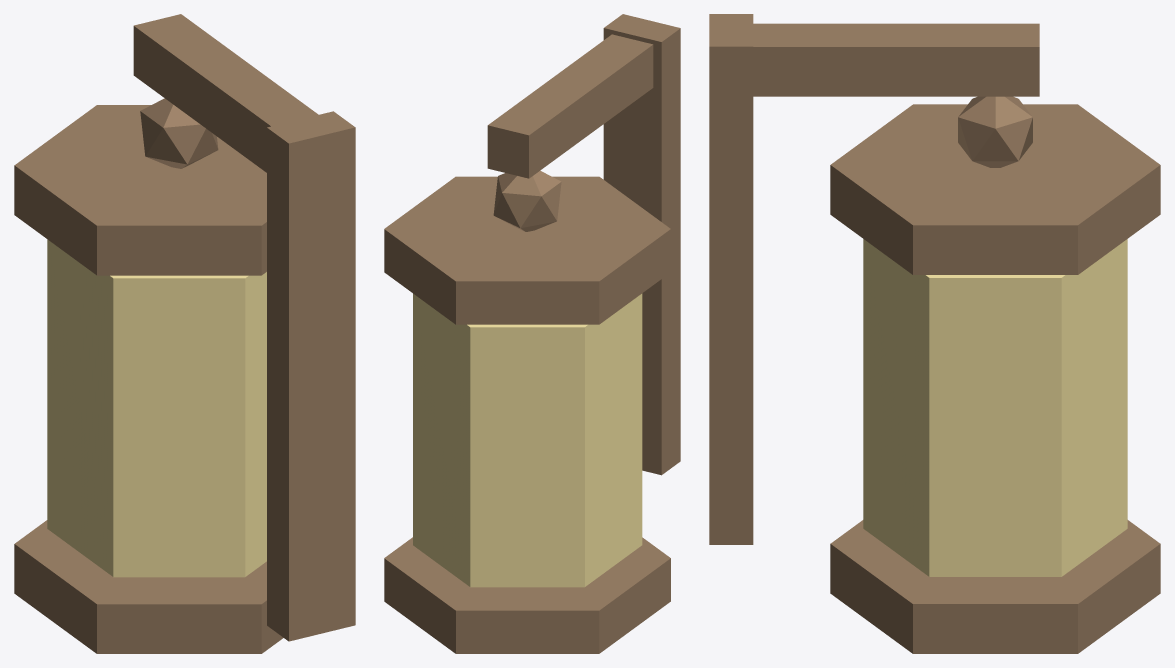
Rendered from Home_Lantern.fbx.
3 views of the same model, side by side, from view 1: azimuth 30°, elevation 25°; view 2: azimuth 150°, elevation 25°; view 3: azimuth 270°, elevation 25° (orthographic). The views are drawn at different scales.
Parts seen in each view (by area): view 1: Glass, WallPlate, TopCap, BottomCap, Arm, Knob; view 2: Glass, TopCap, BottomCap, WallPlate, Arm, Knob; view 3: Glass, TopCap, BottomCap, WallPlate, Arm, Knob.
Boxes of the visible parts, box(x1,y1,x2,y2) form: Glass: box(47, 239, 266, 577); WallPlate: box(267, 111, 355, 641); TopCap: box(14, 105, 266, 275); BottomCap: box(14, 520, 283, 653); Arm: box(133, 14, 318, 172); Knob: box(140, 98, 218, 168); Glass: box(413, 293, 642, 587); TopCap: box(384, 176, 670, 324); BottomCap: box(384, 537, 670, 653); WallPlate: box(603, 14, 680, 475); Arm: box(487, 34, 653, 178); Knob: box(493, 170, 561, 231); Glass: box(863, 239, 1127, 576); TopCap: box(830, 104, 1160, 274); BottomCap: box(830, 520, 1160, 653); WallPlate: box(709, 14, 753, 544); Arm: box(753, 23, 1039, 96); Knob: box(958, 96, 1032, 167).
Size of the model in its own units: 0.2598 by 0.565 by 0.41.
